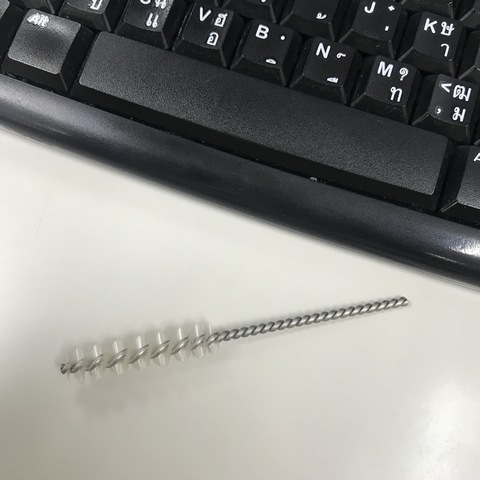Twist Brush-B: (50, 290, 412, 383)
